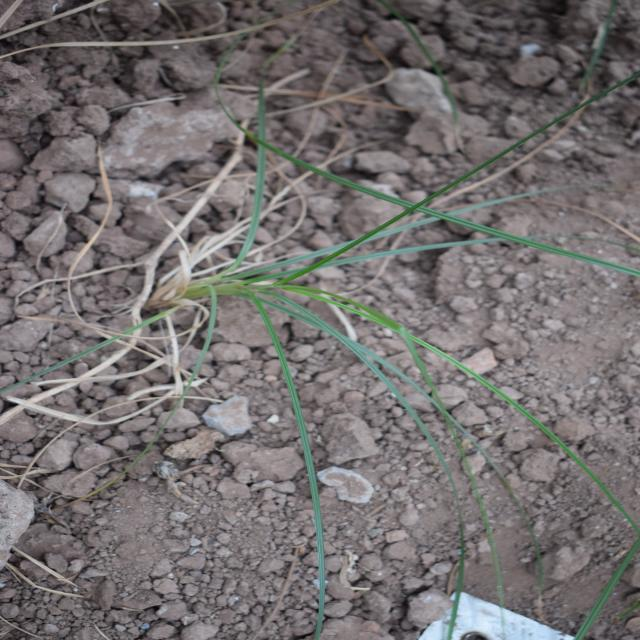sedge: (0, 36, 557, 590)
